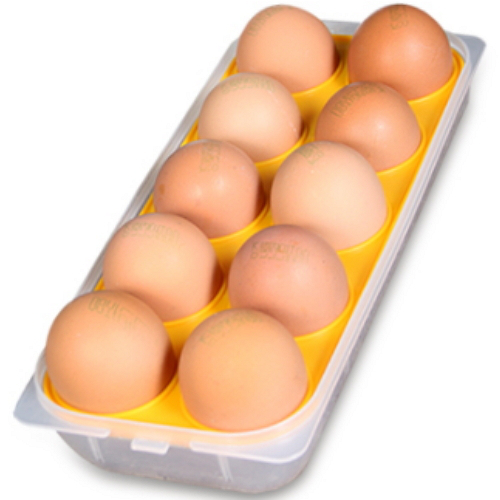egg: (44, 3, 453, 434)
